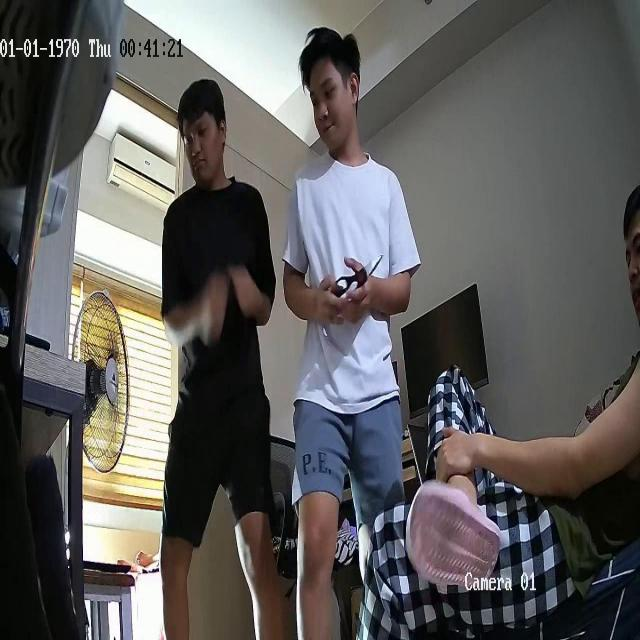scissor: (334, 255, 381, 297)
